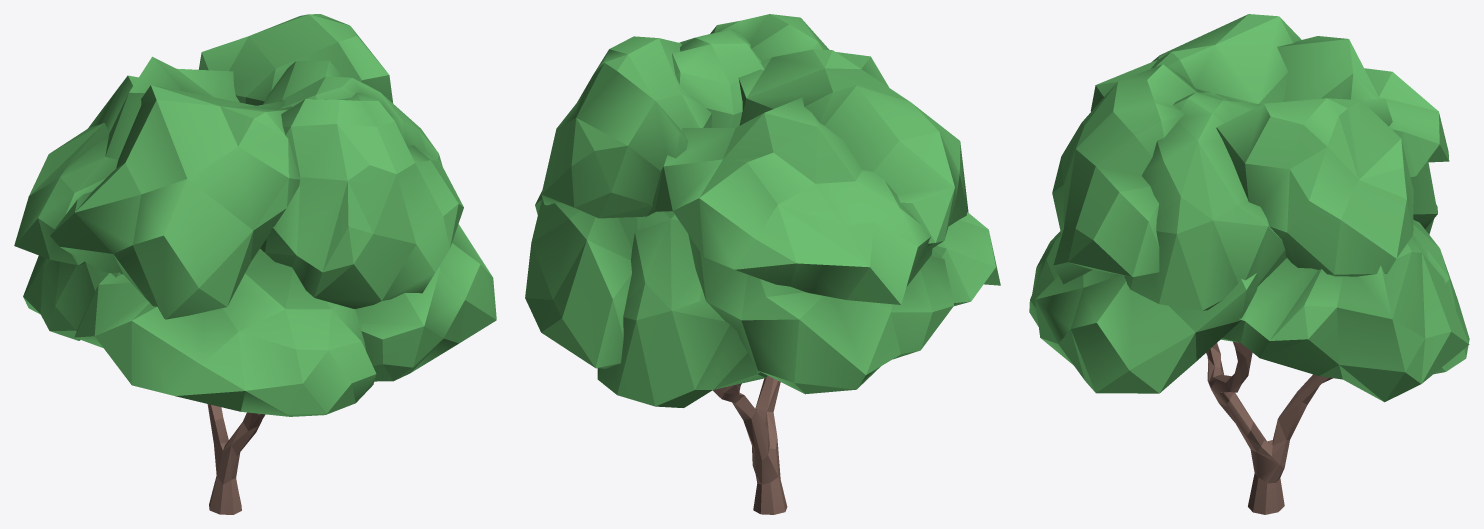
Rendered from tree_005.glb.
3 views of the same model, side by side, from view 1: azimuth 30°, elevation 25°; view 2: azimuth 150°, elevation 25°; view 3: azimuth 270°, elevation 25° (orthographic). The views are drawn at different scales.
Visible parts, largest first — view 1: tree_005; view 2: tree_005; view 3: tree_005.
Boxes of the visible parts, x1,y1,x2,y2 form: tree_005: [14, 14, 496, 514]; tree_005: [525, 14, 1000, 514]; tree_005: [1029, 14, 1469, 514].
Bounding box in the file's own units: 6.62 × 7.2 × 6.16.
1 material, 1 textured.
